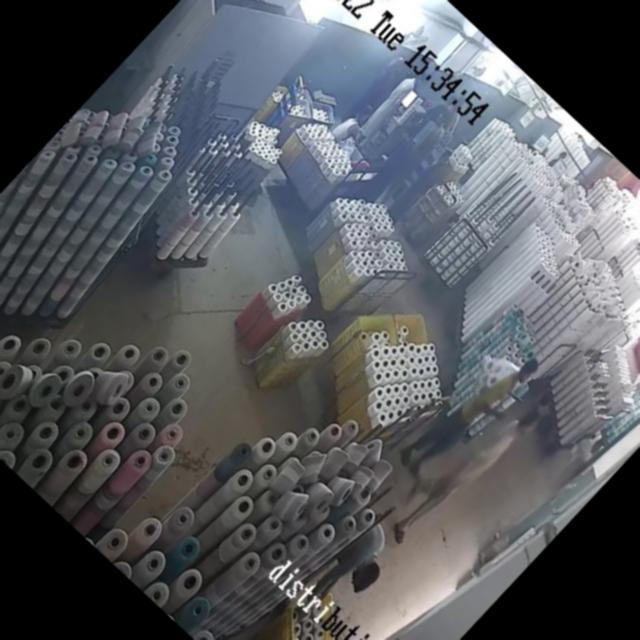person: (390, 388, 546, 552), (400, 339, 542, 487), (356, 120, 434, 201), (385, 148, 455, 222), (355, 74, 421, 142)
